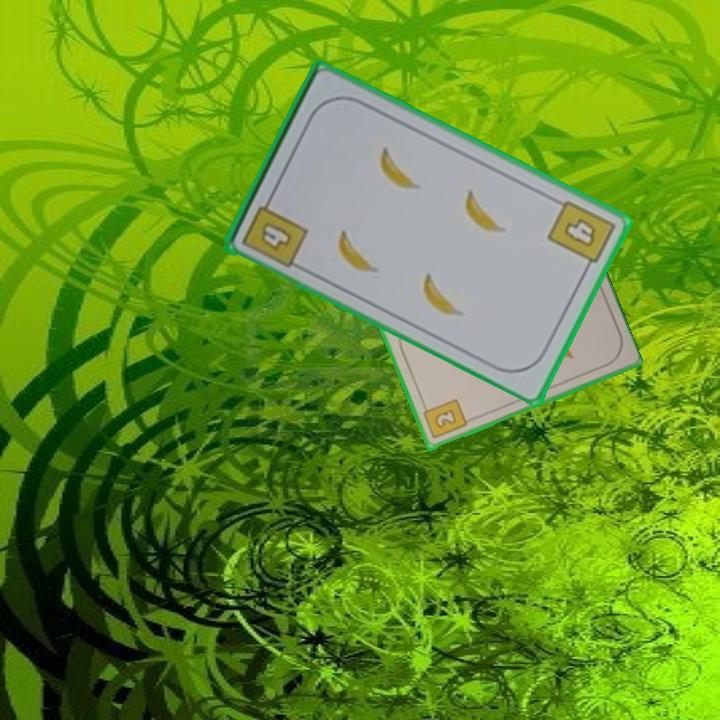2b: (419, 396, 469, 442)
4b: (543, 196, 618, 276), (238, 192, 311, 271)
